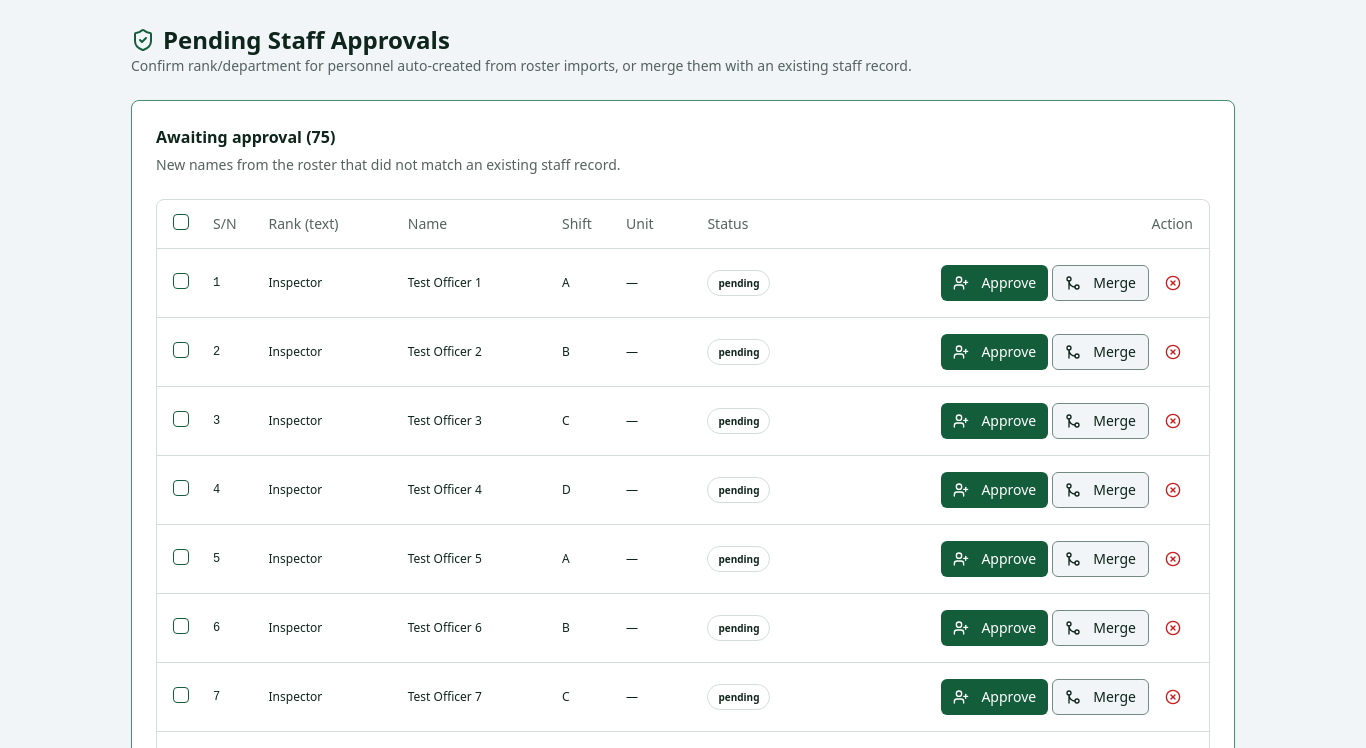
PendingStaffApprovals — bulk actions › bulk merge with multiple rows surfaces the per-row guidance and does not mutate
This screenshot has width=1366, height=748.
Expected: the text "Test Officer 1" is shown, [392,248,546,317]
Step 1. Click the checkbox named "select all" → click(181, 222), box [173,214,189,230]
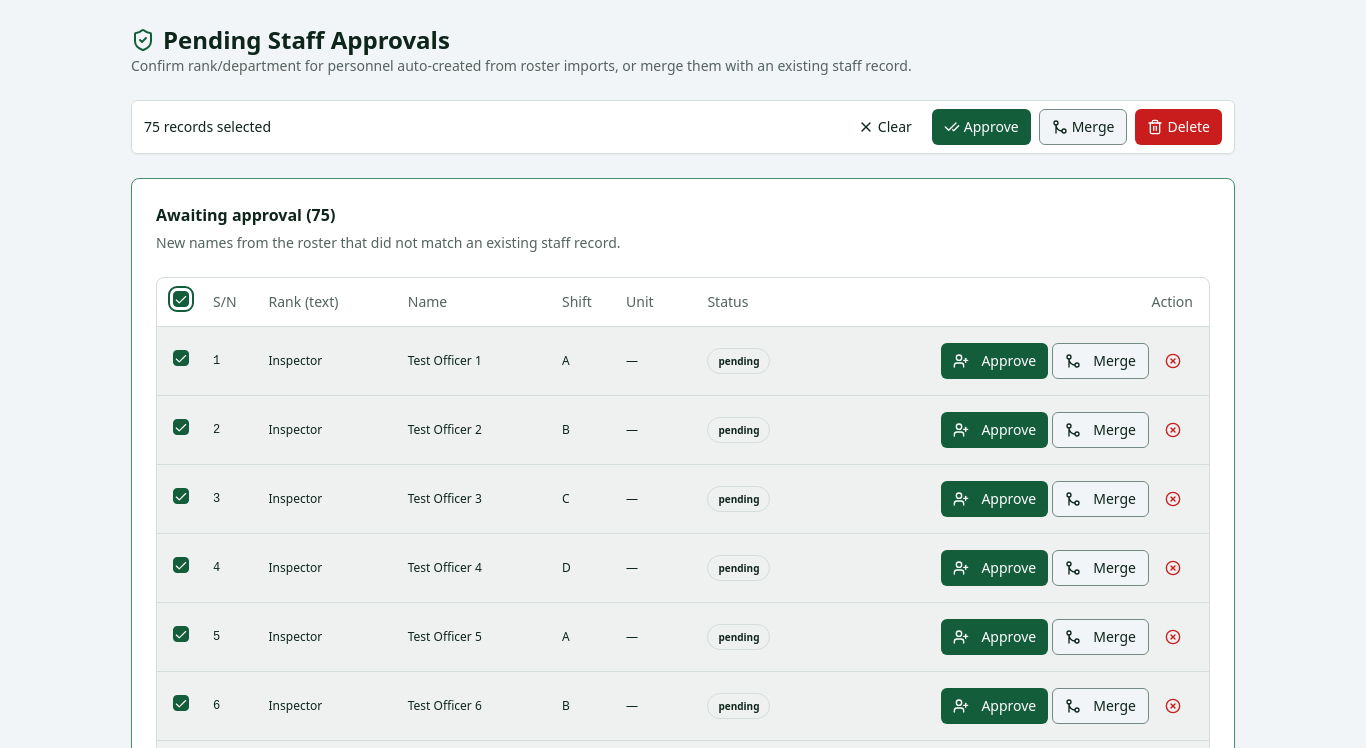
Step 2. Click the button "Merge" in the row of "selected" → click(1083, 127), box [1039,109,1128,145]
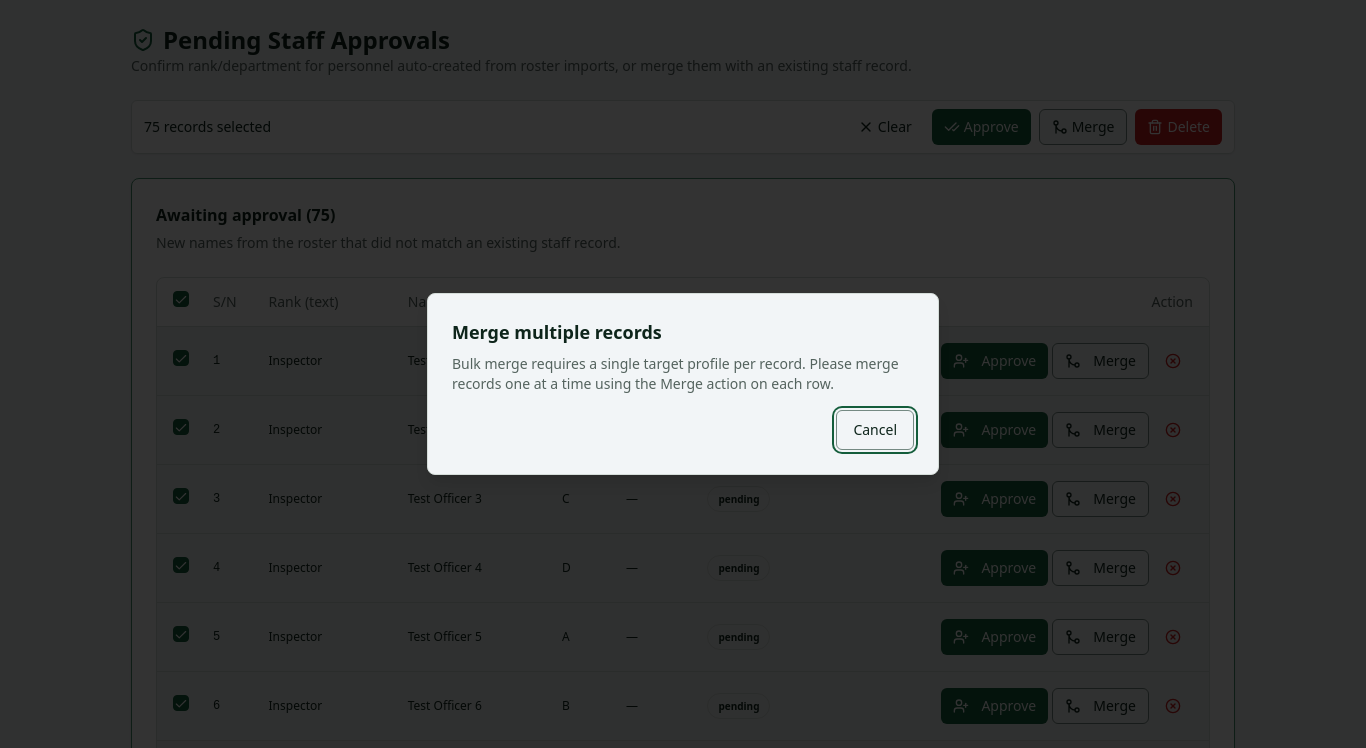
Result: the text "Bulk merge requires a single target profile" is shown at [452,354,899,393]
